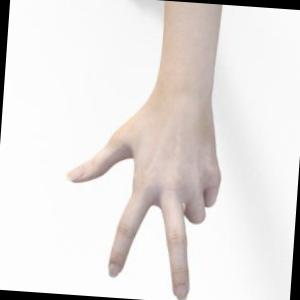scissors: (68, 1, 222, 300)
